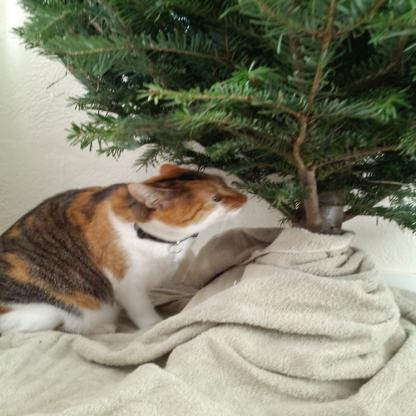Target: (4, 160, 249, 340)
